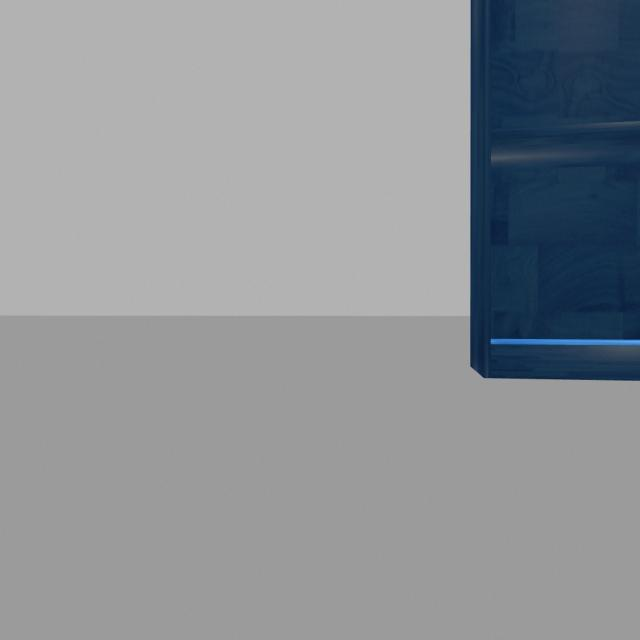shelf: (449, 0, 640, 409)
